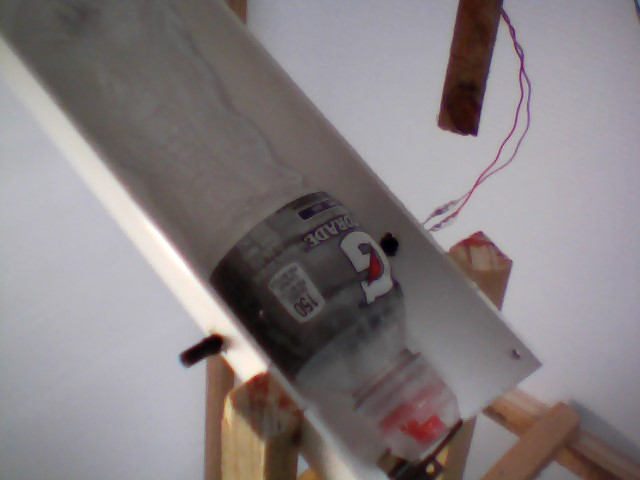plastico: (18, 1, 466, 466)
